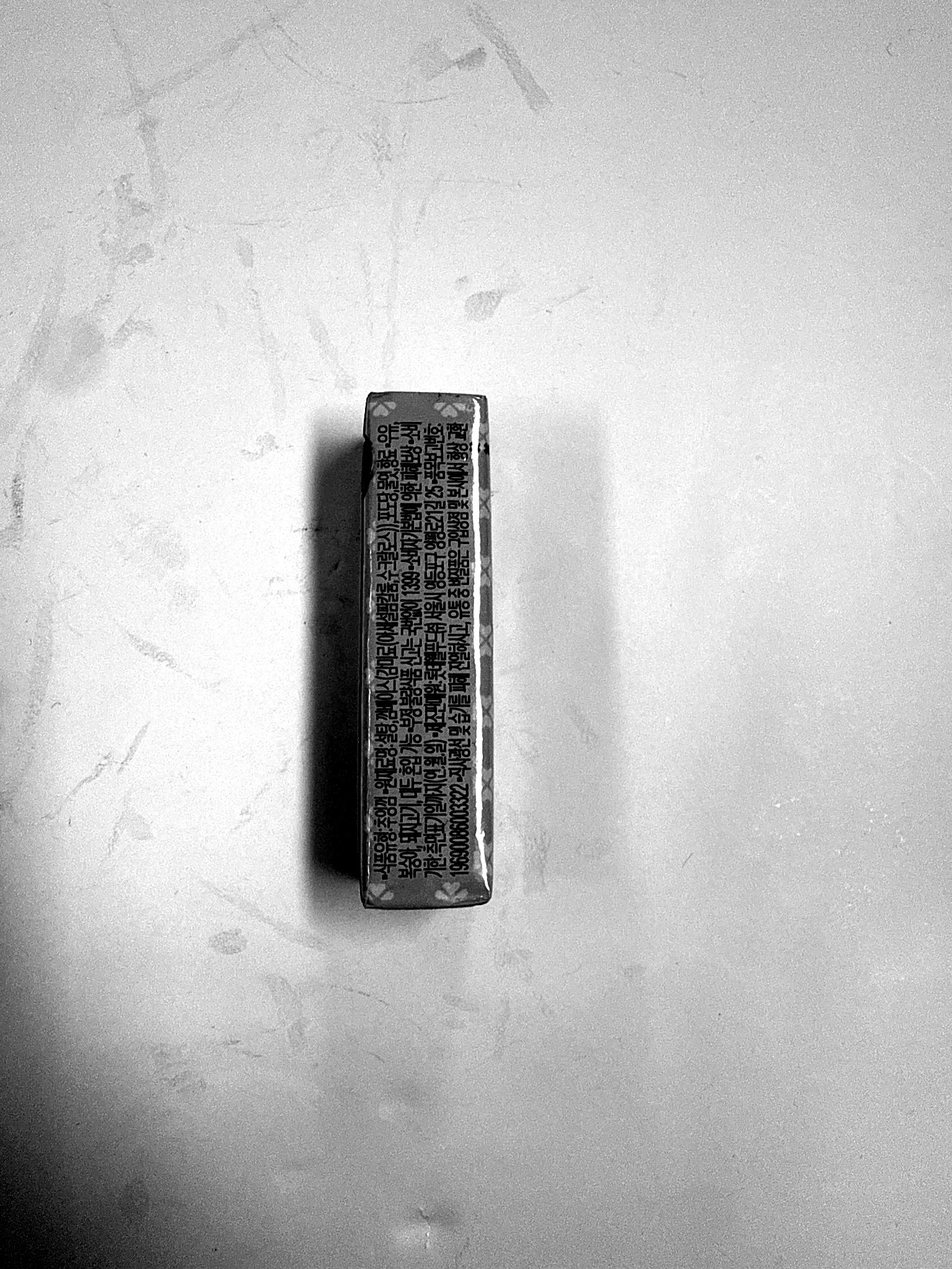gum_yellow: (360, 391, 492, 912)
